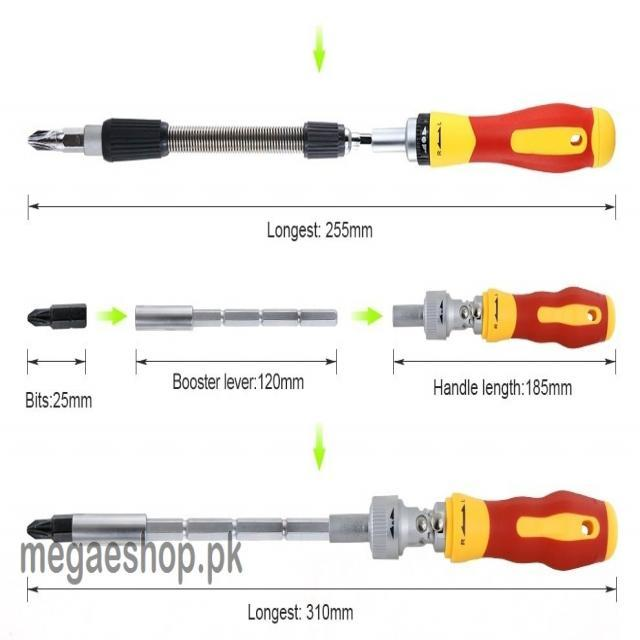screwdriver: (19, 77, 620, 195), (23, 473, 624, 579)
